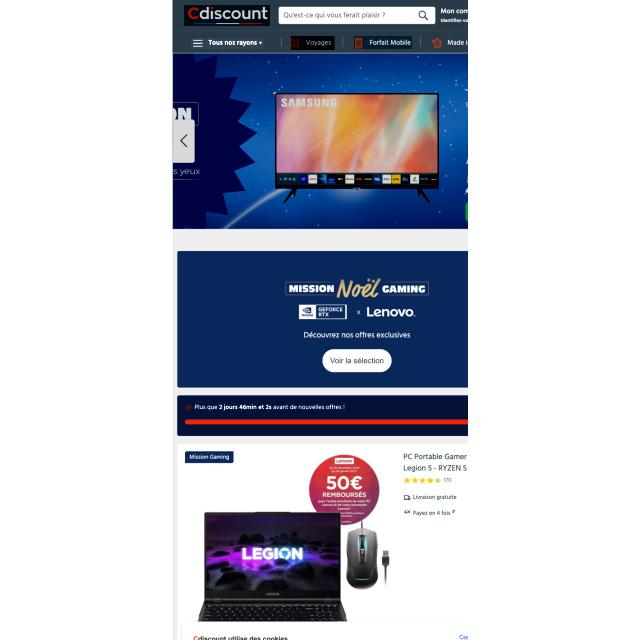CheckBox: (354, 36, 412, 49), (292, 36, 336, 50)
card: (172, 53, 468, 229), (177, 396, 468, 436)
date picker: (184, 5, 270, 26)
decoration: (190, 38, 264, 49)
footer: (284, 8, 388, 21)
